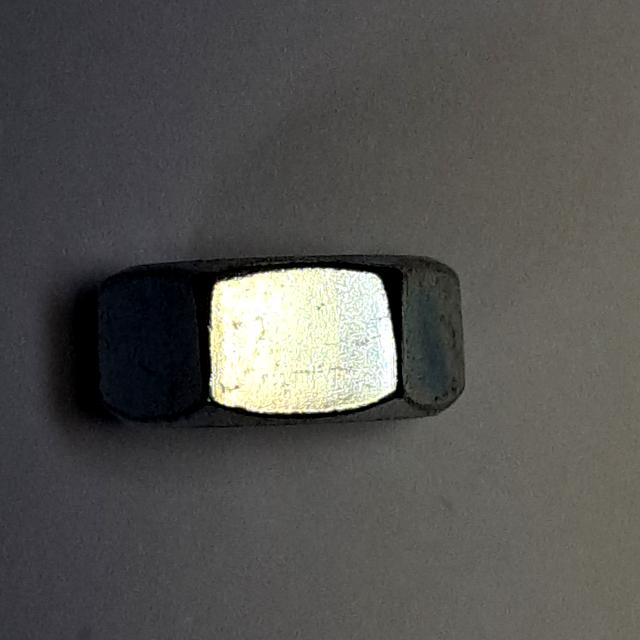Side_Excellent: (83, 239, 485, 446)
